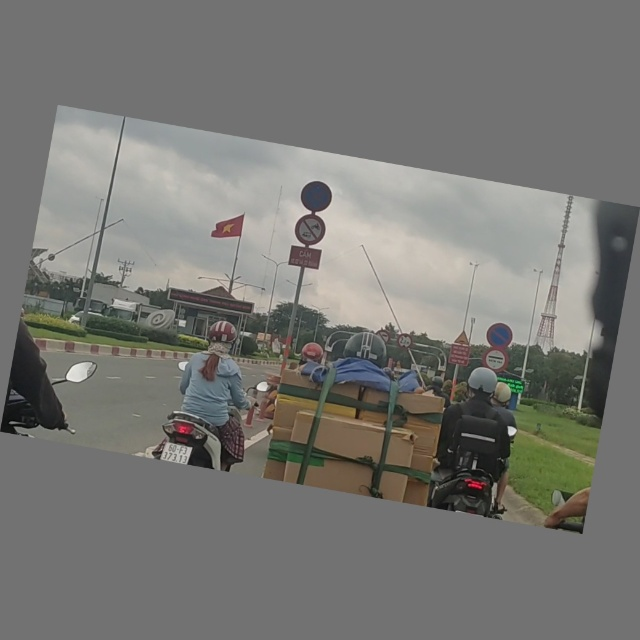P.111: (293, 213, 329, 249)
P.117*: (396, 333, 414, 351)
P.129: (481, 348, 510, 375)
P.130: (298, 179, 335, 214)
P.131a: (485, 322, 515, 349)
W.221b: (454, 329, 472, 347)
